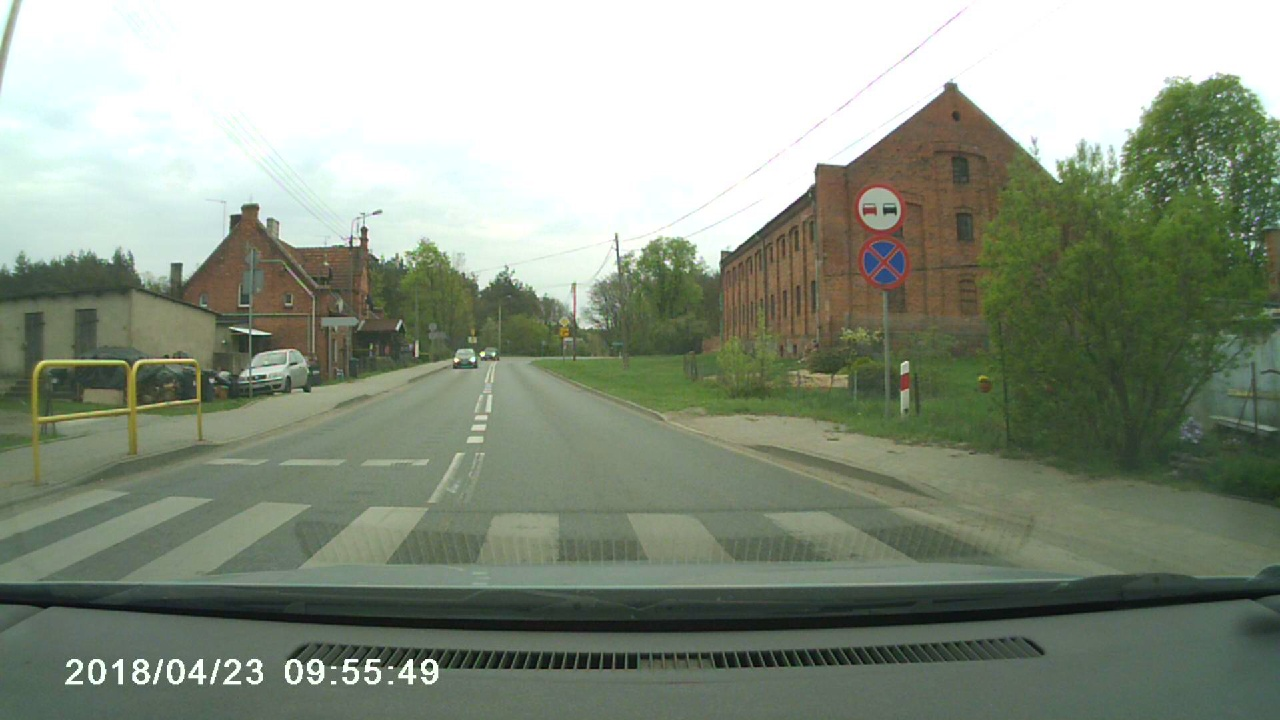B25: (856, 184, 908, 237)
B36: (858, 236, 912, 291)
